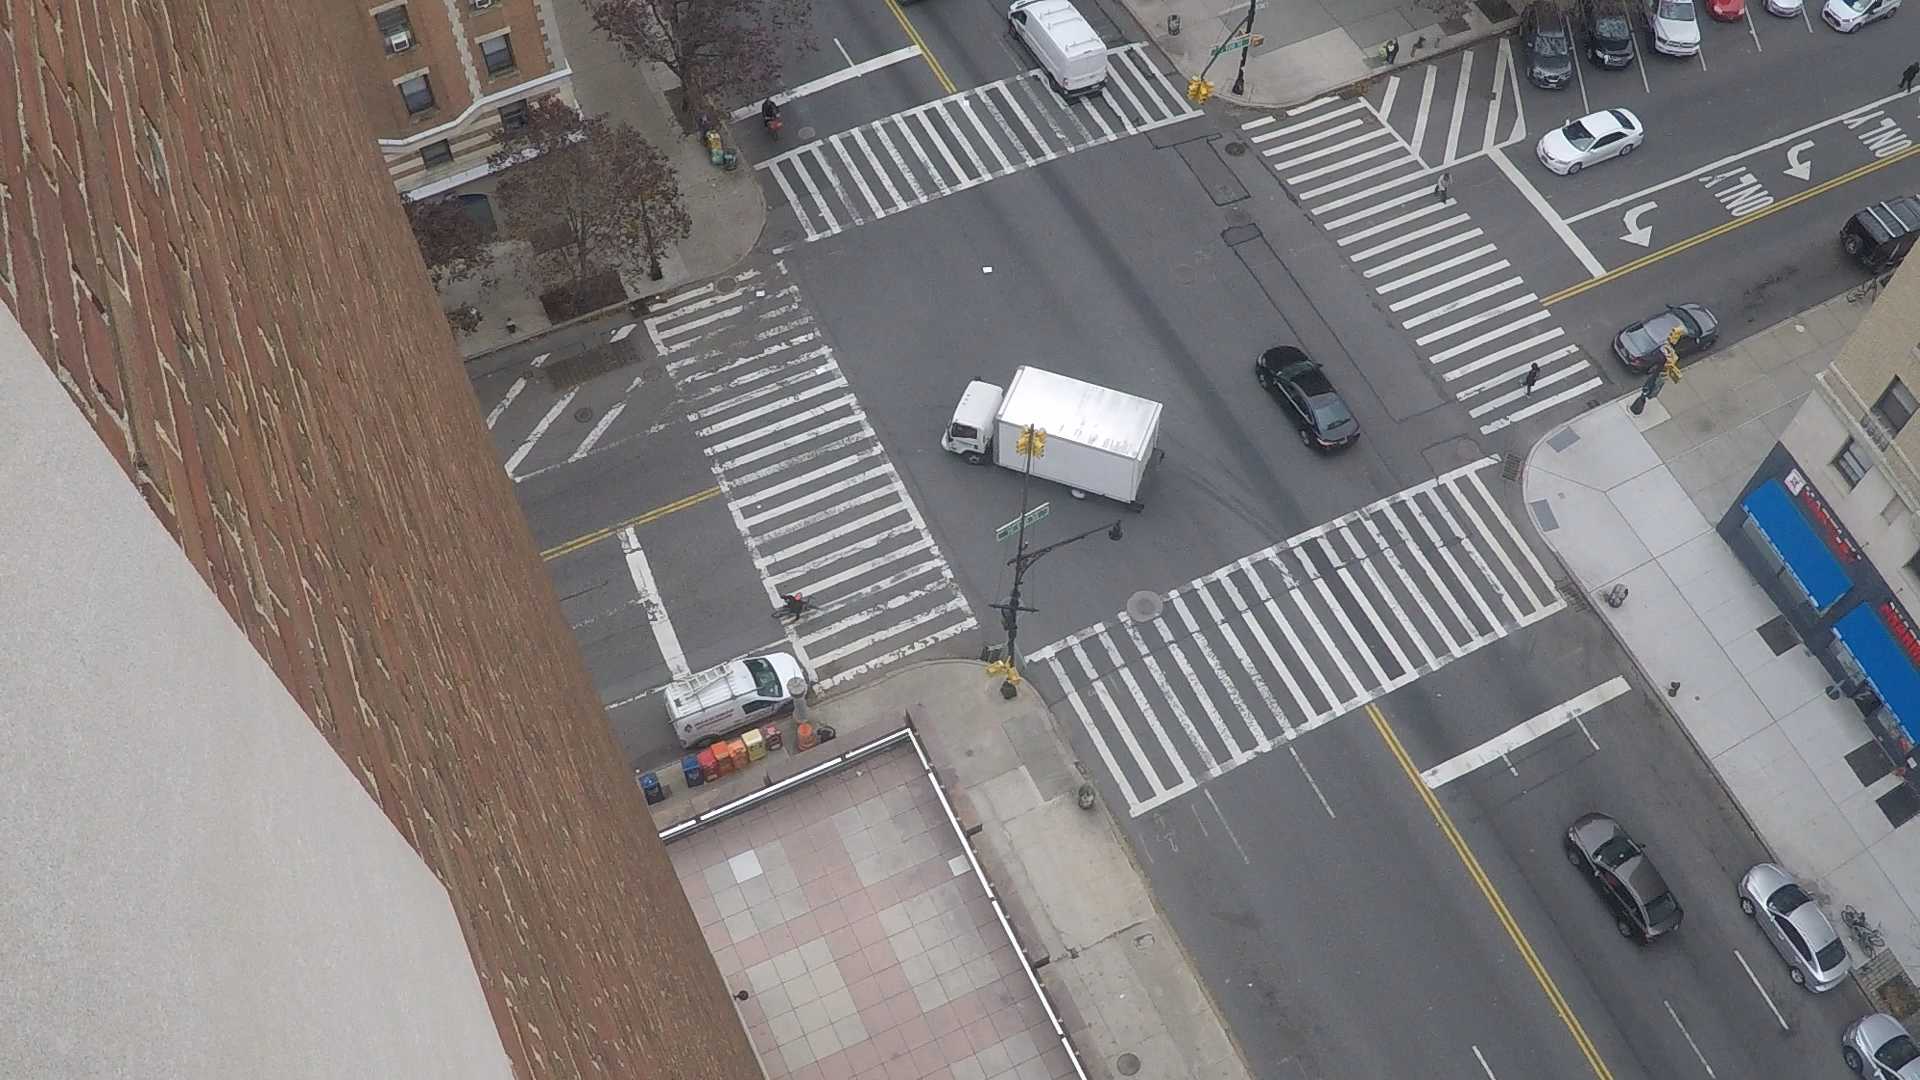Car: (1635, 0, 1636, 18), (1760, 0, 1762, 8)
Truck: (961, 456, 969, 465)
